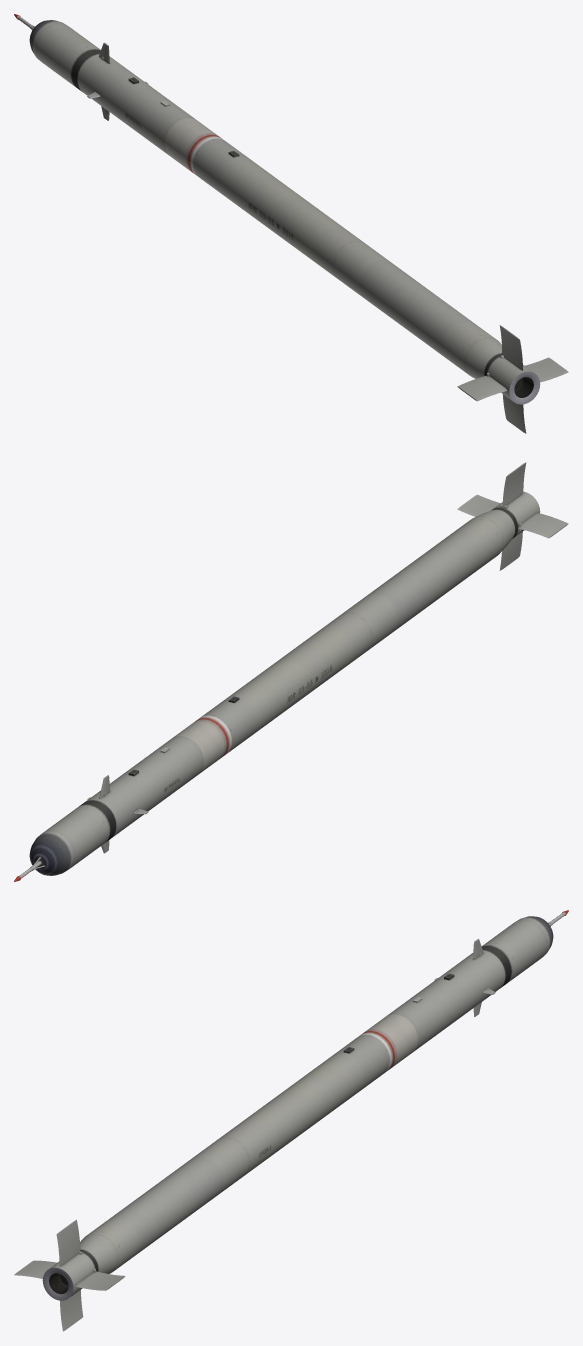
Rendered from msl_iglas.glb.
3 views of the same model, one above another, from view 1: azimuth 30°, elevation 25°; view 2: azimuth 150°, elevation 25°; view 3: azimuth 330°, elevation 25° (orthographic).
Visible parts, largest first — view 1: body|IGS_M; view 2: body|IGS_M; view 3: body|IGS_M.
Part boxes in pixels (x1,y1,x2,y2): body|IGS_M: (14,14,568,433); body|IGS_M: (14,462,568,881); body|IGS_M: (14,910,568,1331).
Bounding box in the file's own units: 0.169 × 0.169 × 1.63.
Materials: 1 (1 with a texture image).
